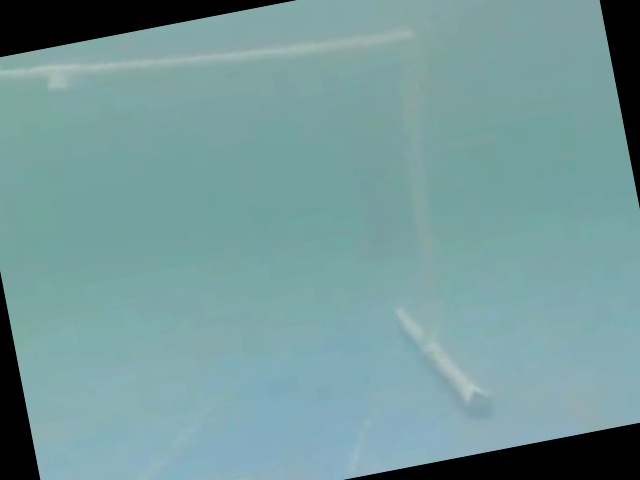gate: (9, 13, 515, 423)
